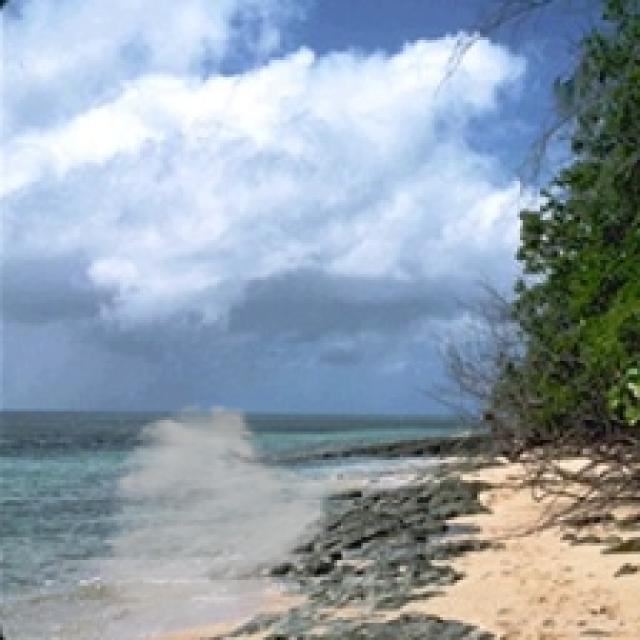Smoke: (91, 399, 343, 632)
